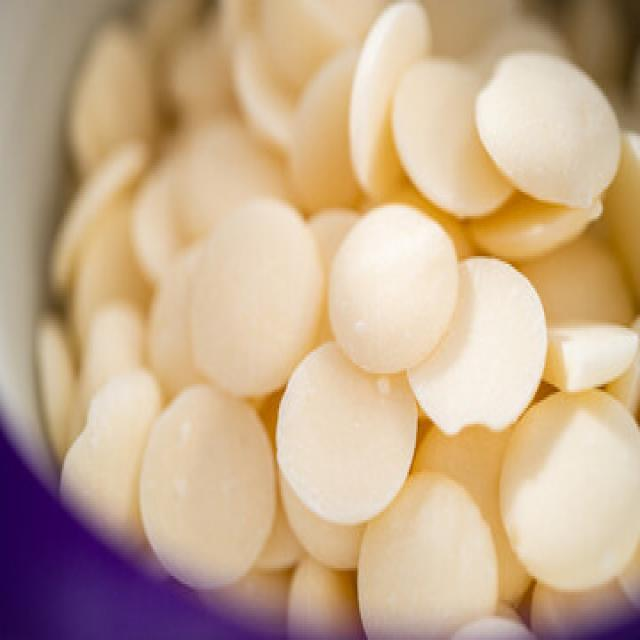Chocolate: (44, 0, 640, 640)
